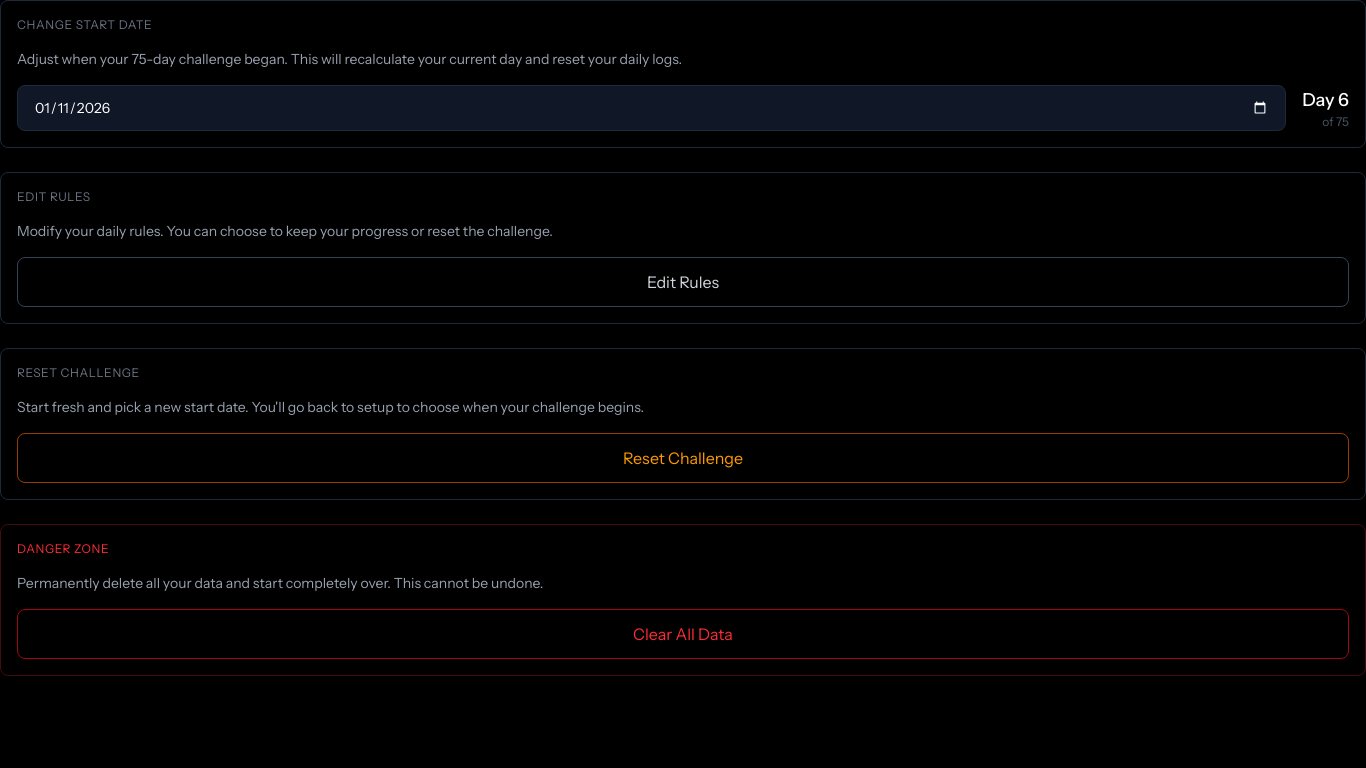
Test: SettingsTab › Reset Challenge › opens confirmation modal when reset clicked
Step 1. Click the button "Reset Challenge" → (683,458), box [17, 433, 1349, 483]
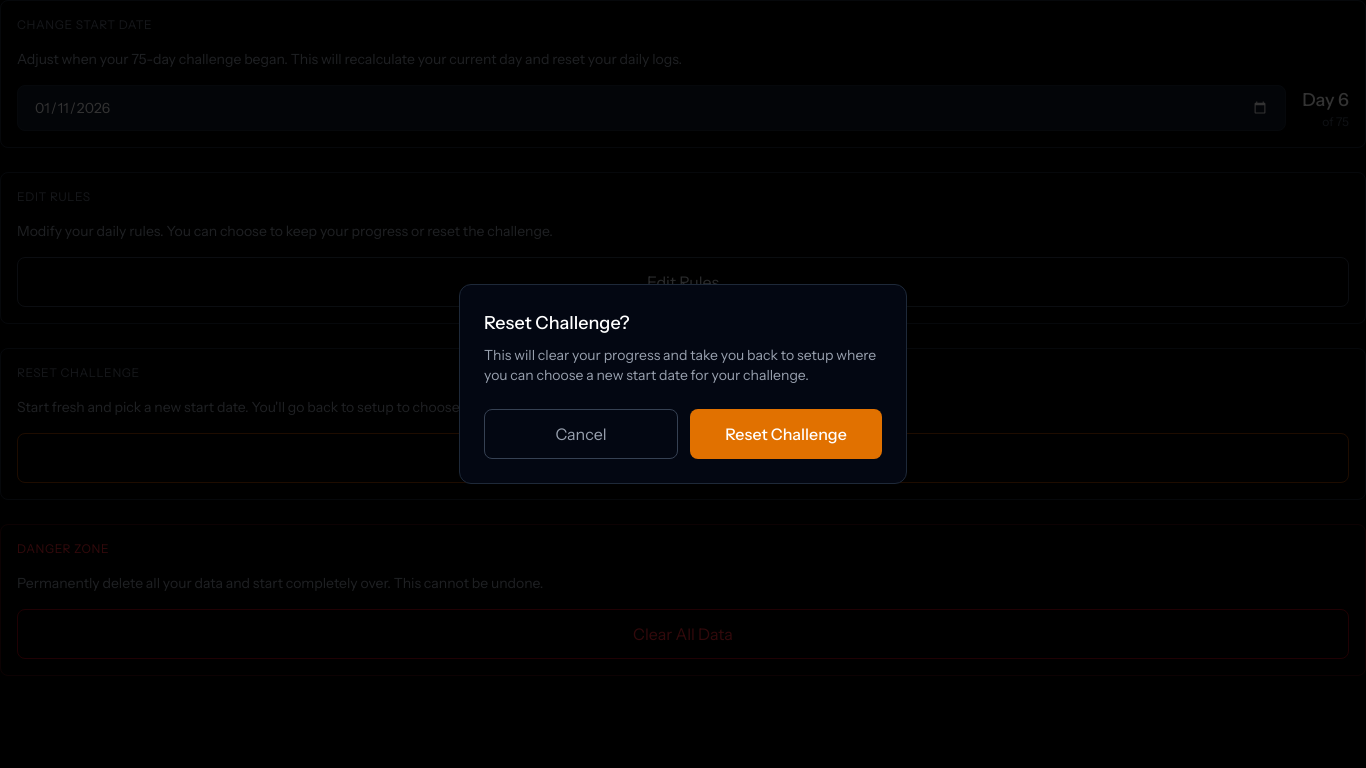
Expected: the heading "Reset Challenge?" is shown, [484, 312, 630, 334]
